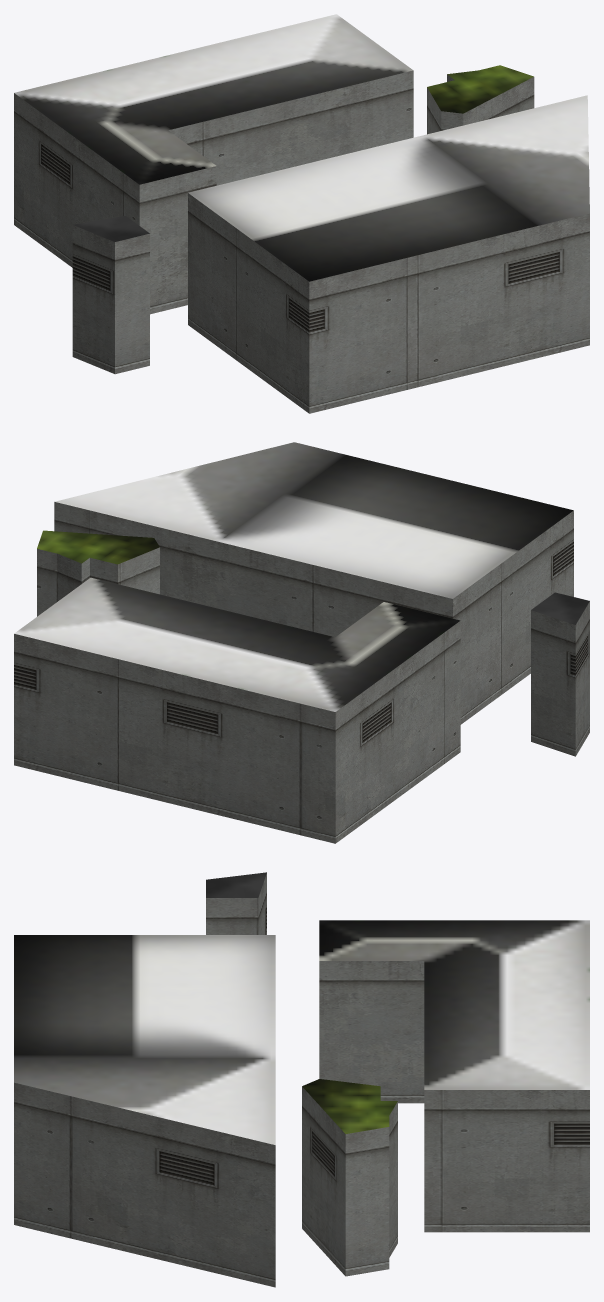
The model's file is BuildingSystem-03-Advance-02-Medium-2-39-02.glb.
3 renders of one model, top to bottom at view 1: azimuth 30°, elevation 25°; view 2: azimuth 150°, elevation 25°; view 3: azimuth 270°, elevation 25°, orthographic. The views are drawn at different scales.
Parts seen in each view (by area): view 1: buildings/saxarba/SMV_Buildings/BuildingSystem-03-Advance-02; view 2: buildings/saxarba/SMV_Buildings/BuildingSystem-03-Advance-02; view 3: buildings/saxarba/SMV_Buildings/BuildingSystem-03-Advance-02.
Boxes of the visible parts, x1,y1,x2,y2 form: buildings/saxarba/SMV_Buildings/BuildingSystem-03-Advance-02: (14, 14, 589, 413); buildings/saxarba/SMV_Buildings/BuildingSystem-03-Advance-02: (14, 442, 589, 843); buildings/saxarba/SMV_Buildings/BuildingSystem-03-Advance-02: (14, 872, 589, 1287).
Size of the model in its own units: 74 by 18 by 66.
